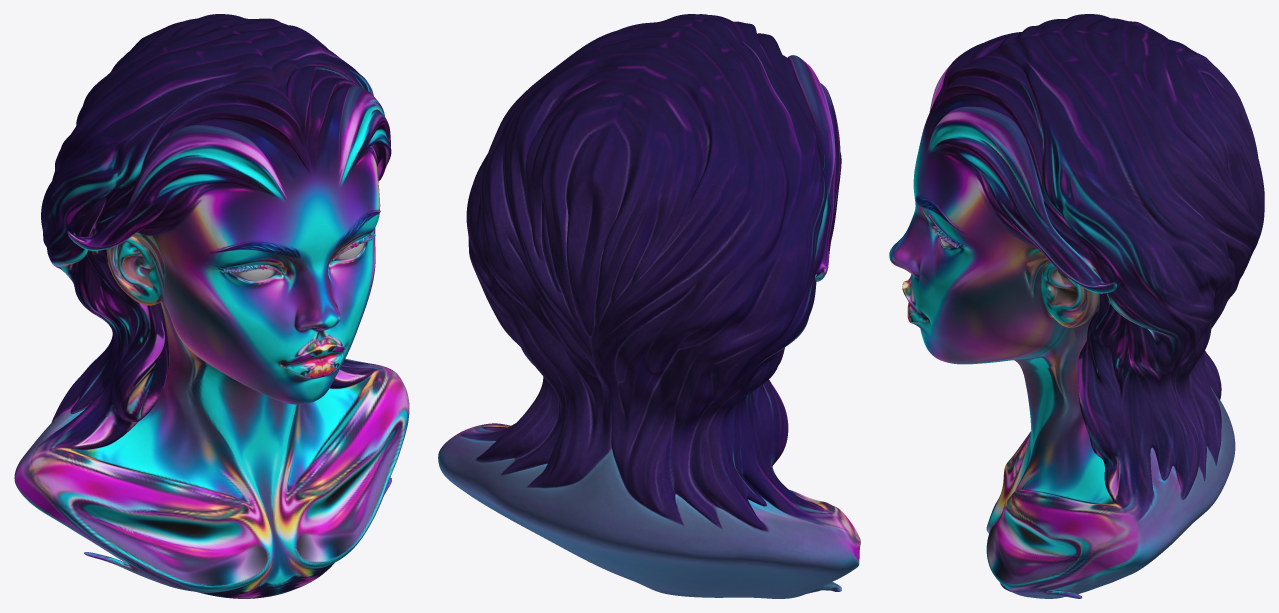
Rendered from Cybernetic_Goddess_Upgraded_Optimized.glb.
3 views of the same model, side by side, from view 1: azimuth 30°, elevation 25°; view 2: azimuth 150°, elevation 25°; view 3: azimuth 270°, elevation 25° (orthographic). The views are drawn at different scales.
Size of the model in its own units: 1.45 by 1.9 by 1.19.
1 material, 1 textured.
